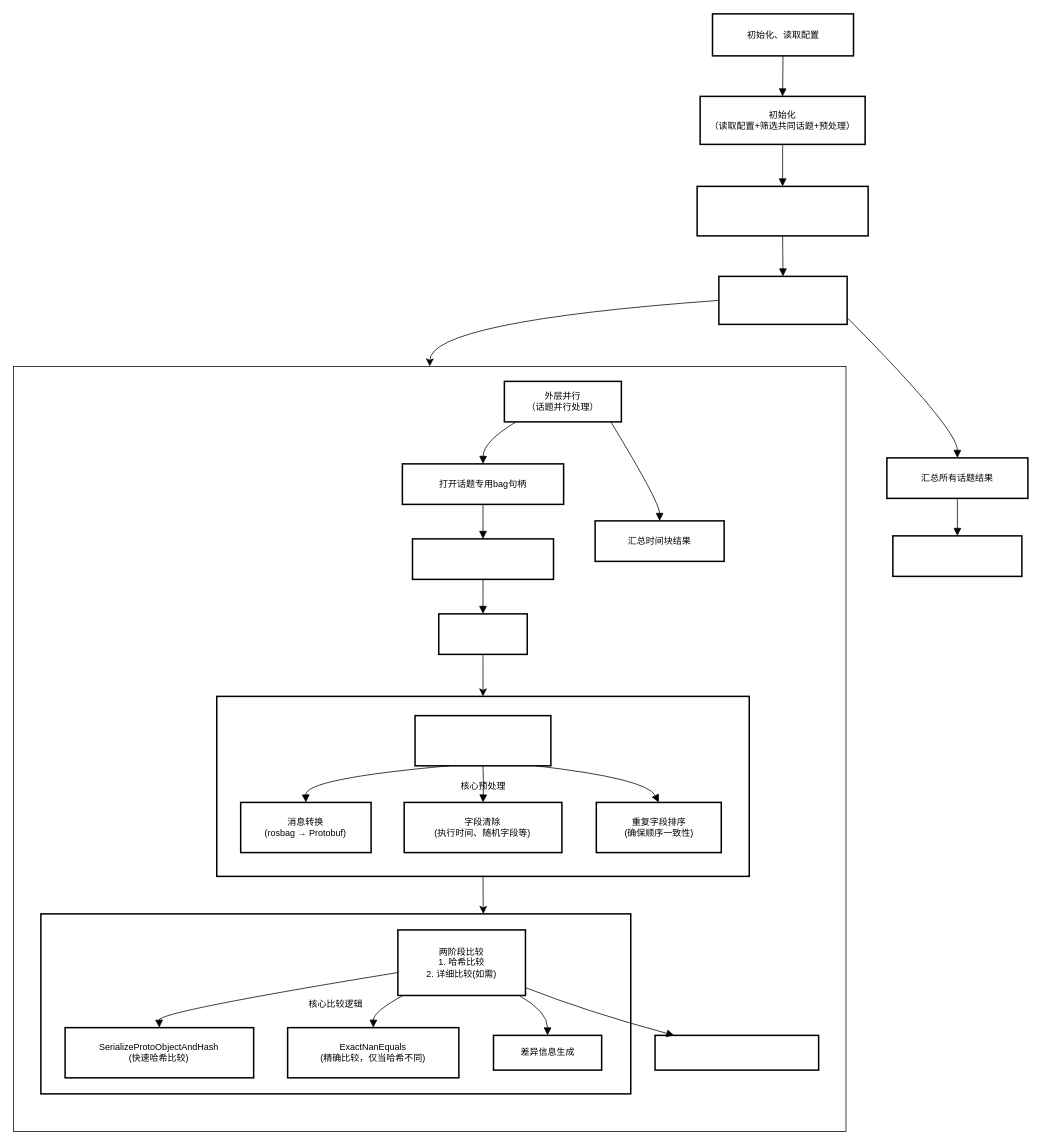
This 1041x1145 diagram has some shape labels left out. The centre of each missing label's shape, as x and y in pixels:
内层并行 （块并行处理）: point 483,634
分块处理时间序列: point 482,559
创建并行容器、设置时间范围: point 782,210
差异信息收集与内存释放: point 736,1052
并行检查 (TBB外层并行): point 783,300
消息提取和标准化: point 482,740
过滤结果并返回: point 957,556
